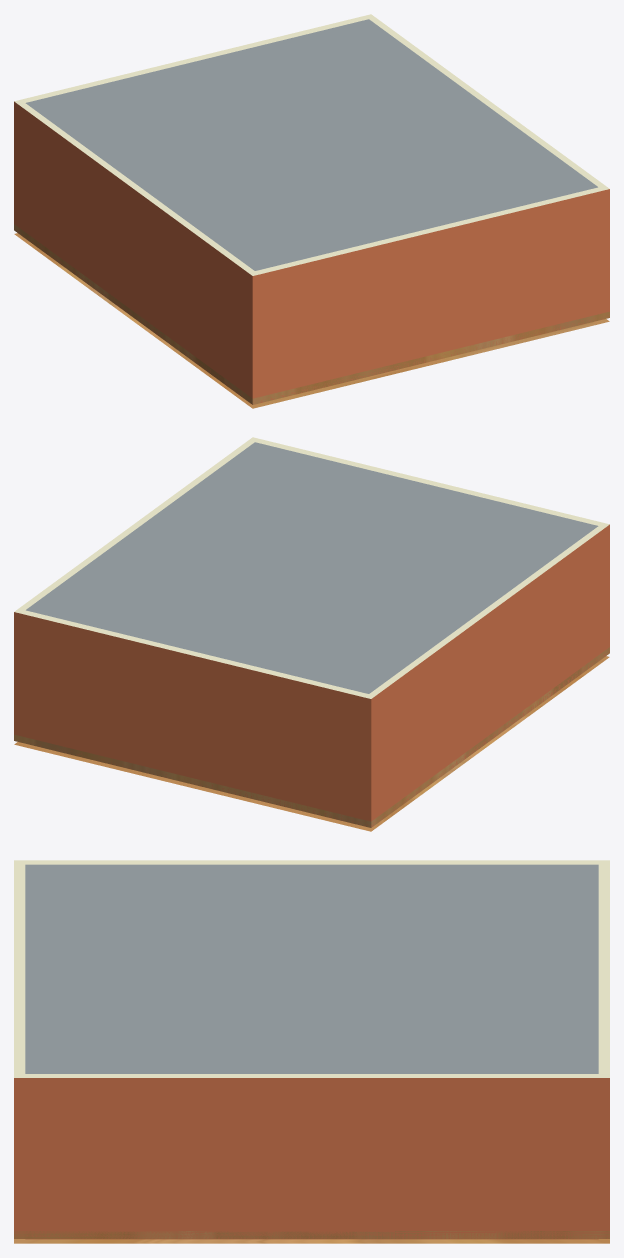
Rendered from centro pokeort dentro.fbx.
The picture shows the model from 3 angles, top to bottom: view 1: azimuth 30°, elevation 25°; view 2: azimuth 150°, elevation 25°; view 3: azimuth 270°, elevation 25°; orthographic projection. The views are drawn at different scales.
Visible parts, largest first — view 1: Cube.006; view 2: Cube.006; view 3: Cube.006.
Boxes of the visible parts, x1,y1,x2,y2 form: Cube.006: (14,14,609,408); Cube.006: (14,437,609,831); Cube.006: (14,860,609,1243).
Bounding box in the file's own units: 2345 × 832 × 2714.
Materials: 11 (11 with a texture image).
